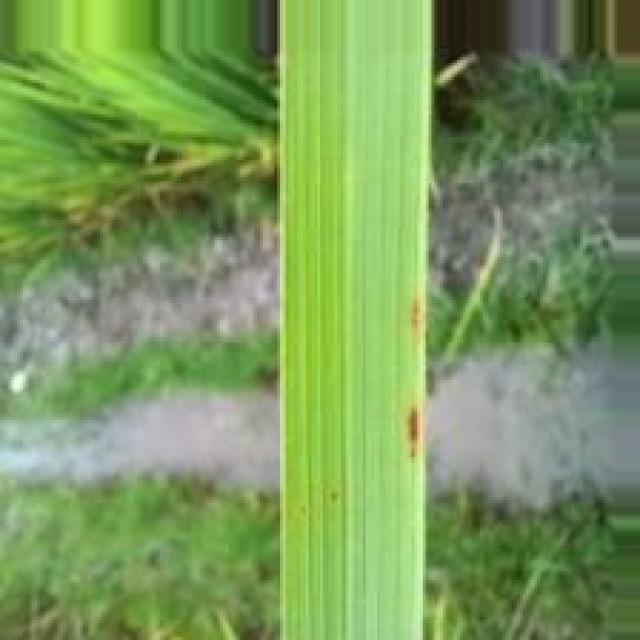Brown_Spot: (404, 400, 423, 467), (409, 300, 425, 338)
